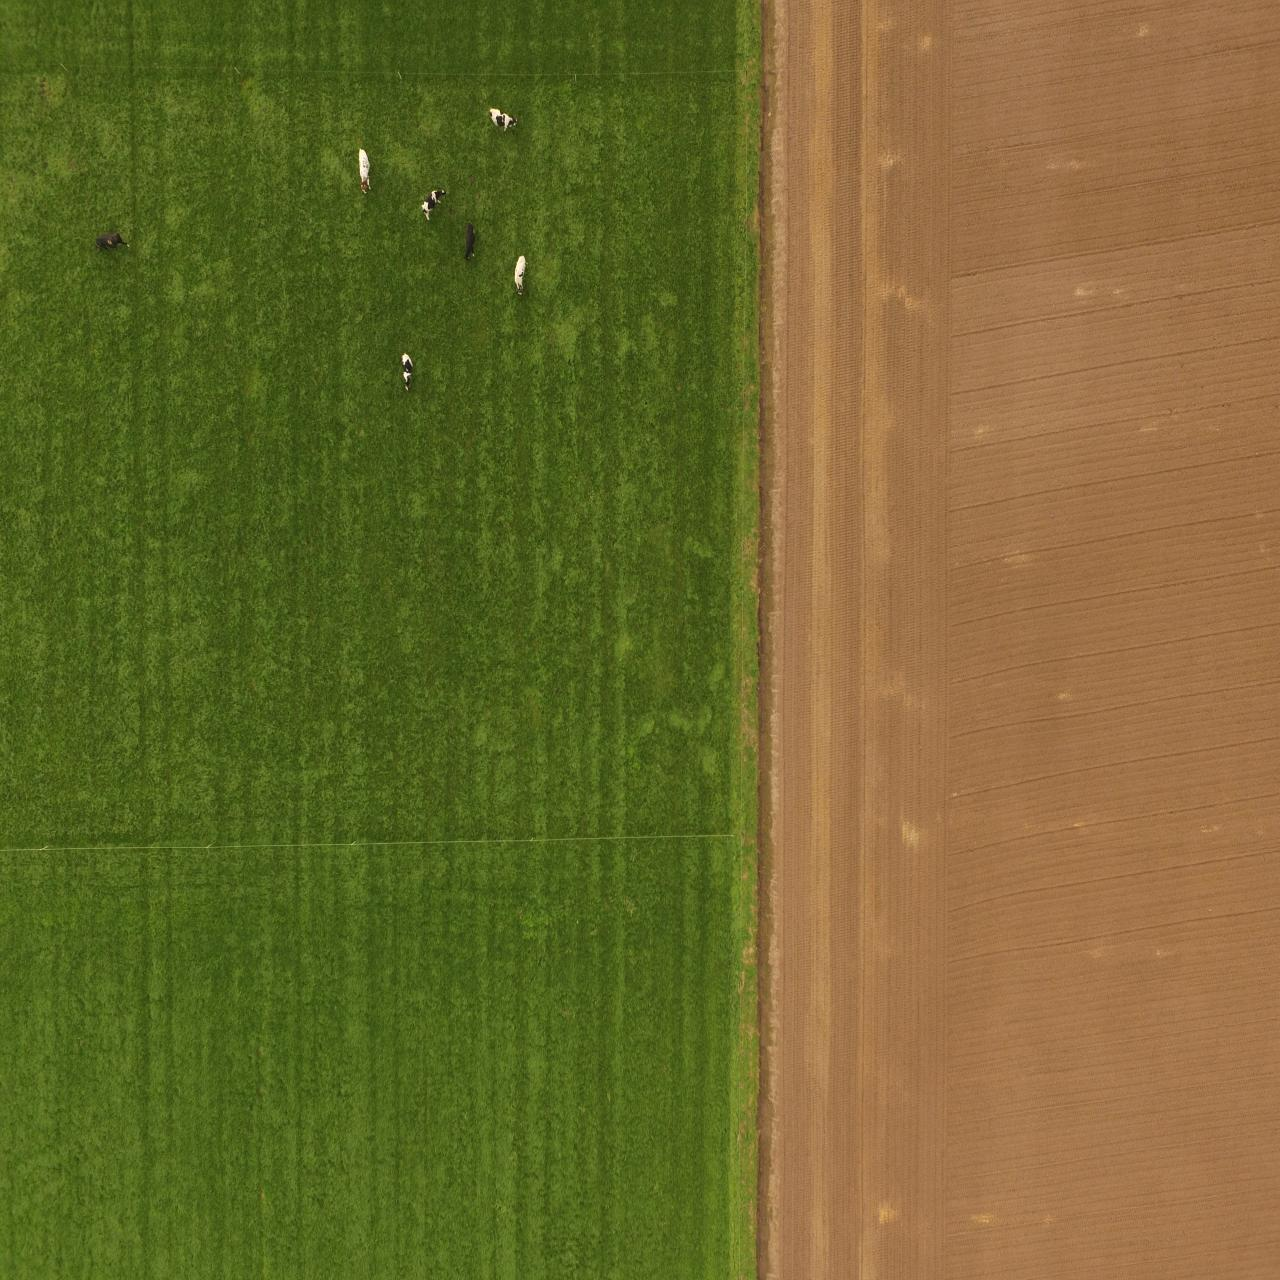cow: (415, 185, 448, 220), (485, 101, 517, 137), (354, 148, 379, 192), (89, 227, 131, 252), (511, 252, 531, 301), (397, 346, 414, 394), (465, 218, 477, 265)
